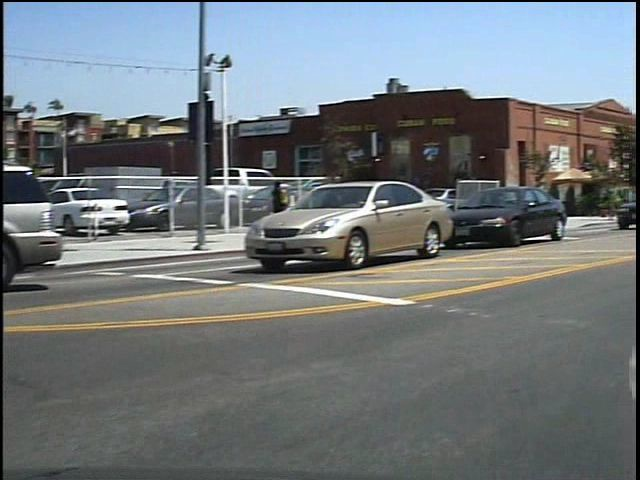person: (274, 175, 299, 237)
